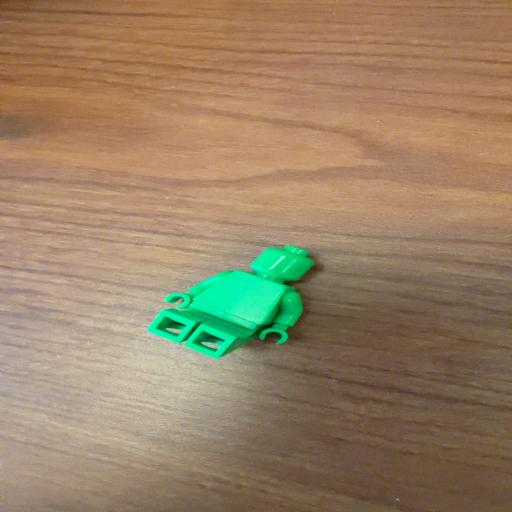UnoQ-minifig-detector: (148, 246, 313, 358)
